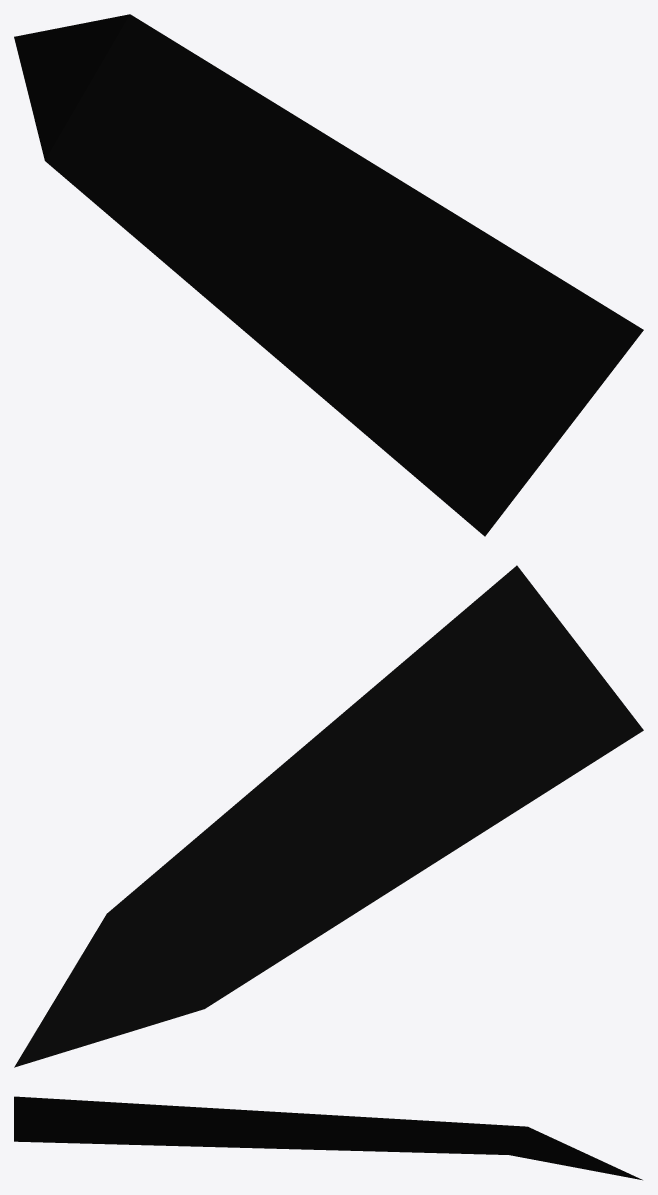
3 views of the same model, one above another, from view 1: azimuth 30°, elevation 25°; view 2: azimuth 150°, elevation 25°; view 3: azimuth 270°, elevation 25° (orthographic). The views are drawn at different scales.
Size of the model in its own units: 0.2078 by 0.2098 by 1.43.
1 material, 1 textured.
